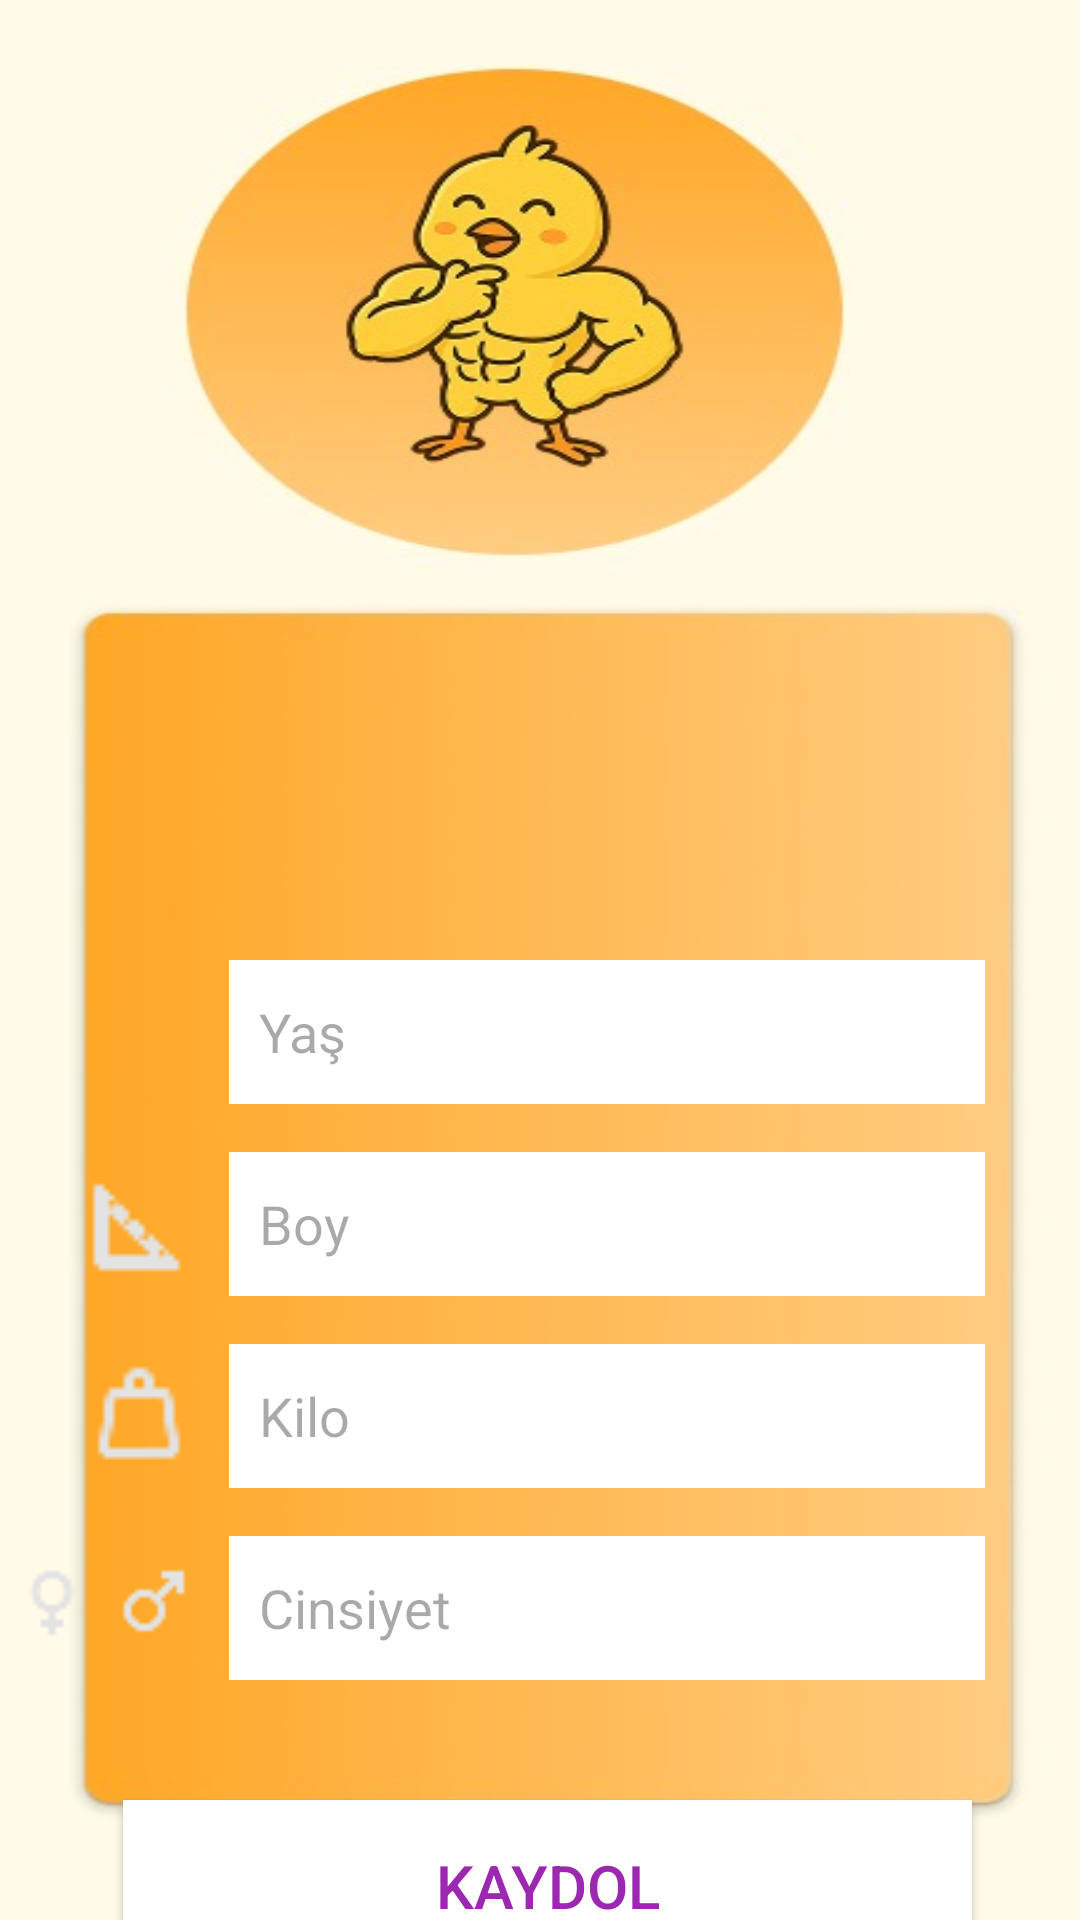

Named icons in this screenshot (1080px×1920px) and their bounding boxes, (x1, y1, x2, y2):
boyicon: (92, 1183, 181, 1272)
erkekicon: (123, 1570, 185, 1632)
kadinicon: (34, 1556, 97, 1646)
